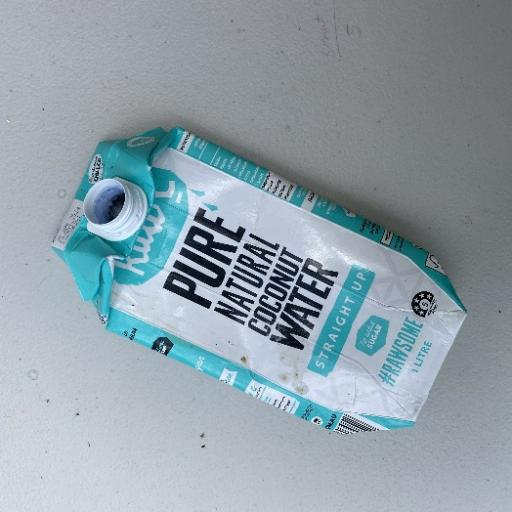Cardboard: (50, 124, 469, 436)
